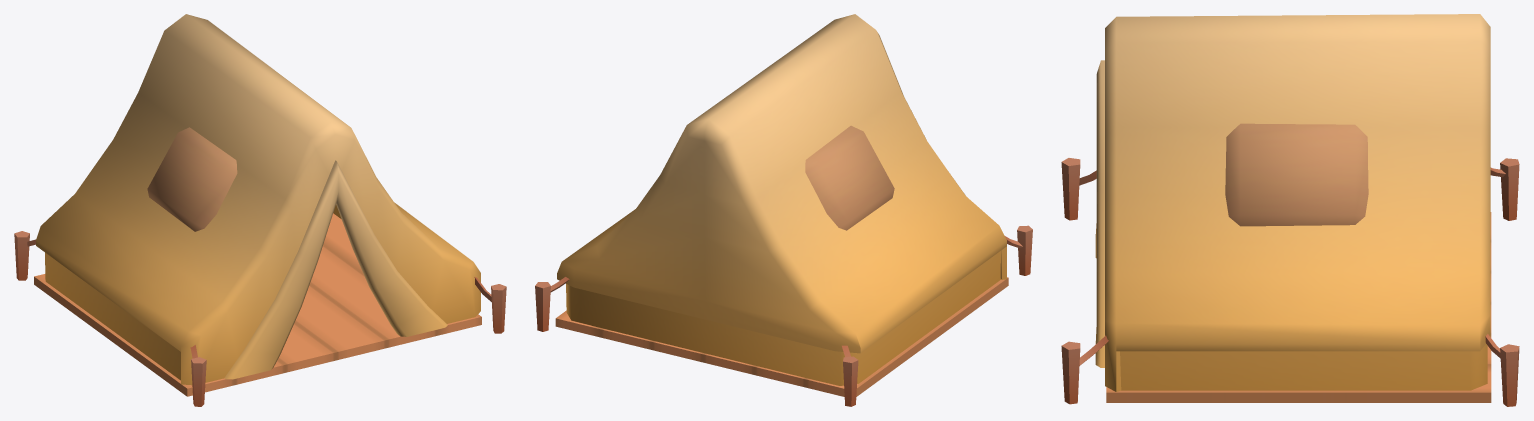
The model's file is House_L01.fbx.
The picture shows the model from 3 angles, left to right: view 1: azimuth 30°, elevation 25°; view 2: azimuth 150°, elevation 25°; view 3: azimuth 270°, elevation 25°; orthographic projection. The views are drawn at different scales.
Parts seen in each view (by area): view 1: House_L01; view 2: House_L01; view 3: House_L01.
Boxes of the visible parts, <box> form: House_L01: <box>14,14,506,406</box>; House_L01: <box>535,14,1032,406</box>; House_L01: <box>1061,14,1519,406</box>.
Bounding box in the file's own units: 373 × 268 × 372.
